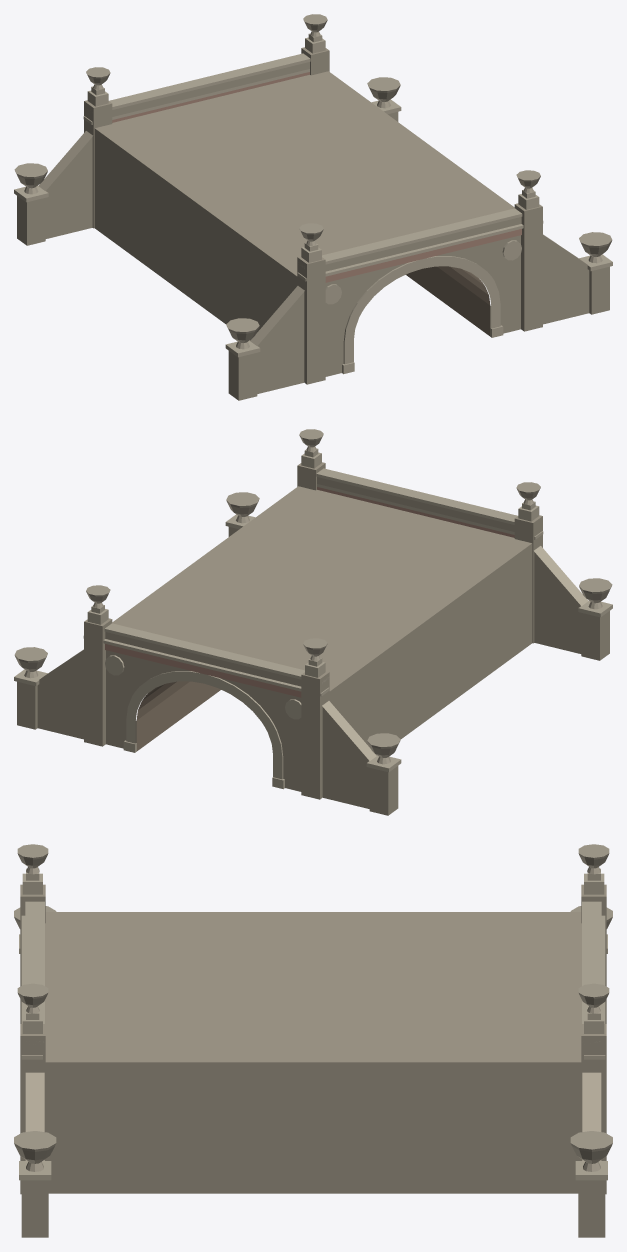
File: nyc-cleft-ridge-span.glb
3 renders of one model, top to bottom at view 1: azimuth 30°, elevation 25°; view 2: azimuth 150°, elevation 25°; view 3: azimuth 270°, elevation 25°, orthographic. The views are drawn at different scales.
Visible parts, largest first — view 1: Cleft Ridge Span; view 2: Cleft Ridge Span; view 3: Cleft Ridge Span.
Part boxes in pixels (x1=…): Cleft Ridge Span: x1=14, y1=14, x2=612, y2=400; Cleft Ridge Span: x1=14, y1=429, x2=612, y2=815; Cleft Ridge Span: x1=14, y1=844, x2=612, y2=1237.
Bounding box in the file's own units: 20.58 × 7.75 × 21.25.
